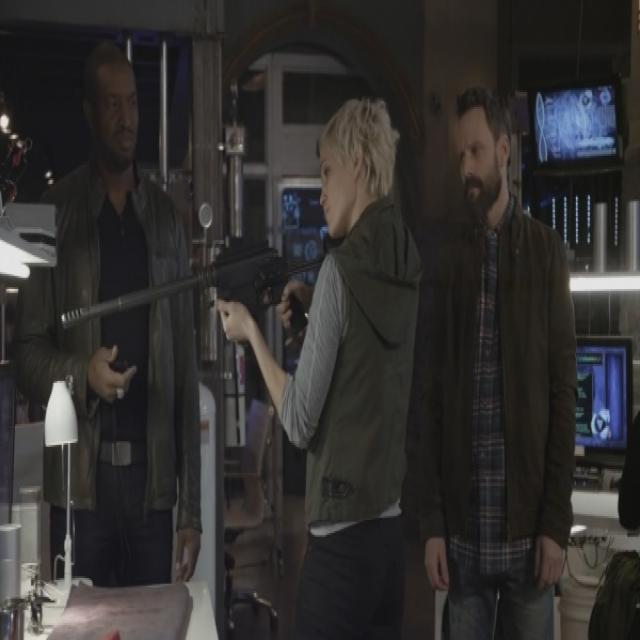rifle: (58, 233, 311, 345)
